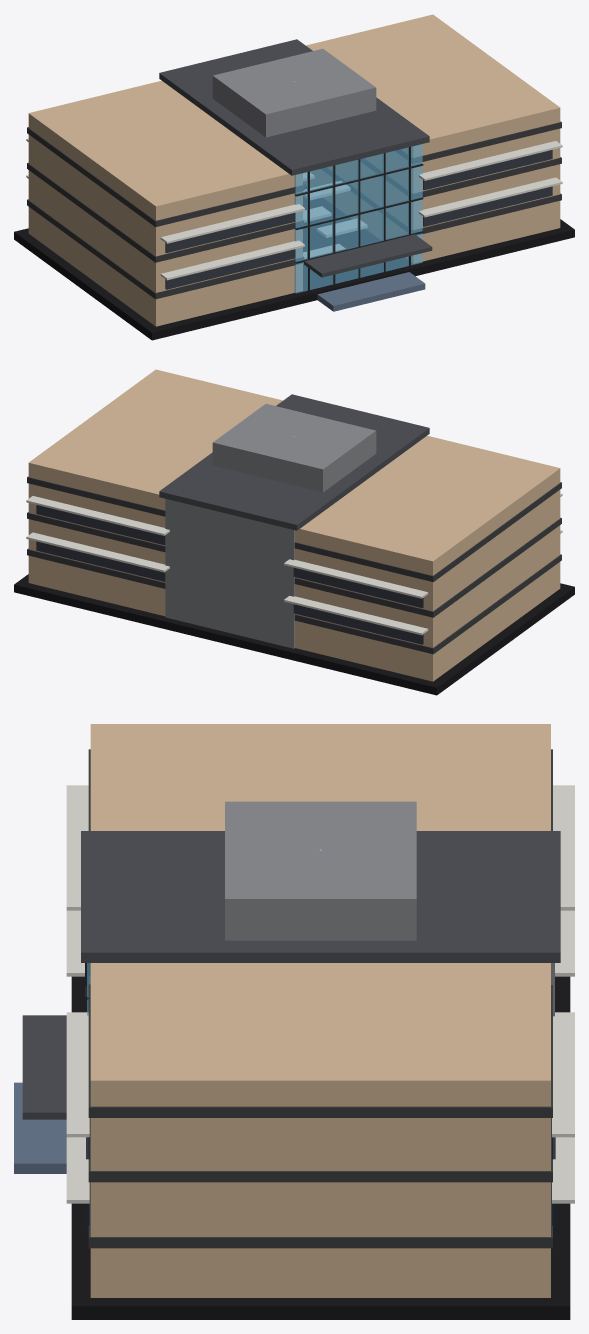
File: it-building.glb
3 views of the same model, one above another, from view 1: azimuth 30°, elevation 25°; view 2: azimuth 150°, elevation 25°; view 3: azimuth 270°, elevation 25° (orthographic). The views are drawn at different scales.
Visible parts, largest first — view 1: IT_Building_Avinash_Khosla; view 2: IT_Building_Avinash_Khosla; view 3: IT_Building_Avinash_Khosla.
Part boxes in pixels (left/top/right/bottom): IT_Building_Avinash_Khosla: left=14, top=14, right=574, bottom=340; IT_Building_Avinash_Khosla: left=14, top=369, right=574, bottom=695; IT_Building_Avinash_Khosla: left=14, top=724, right=574, bottom=1319.
Bounding box in the file's own units: 46 × 16.35 × 29.25.
